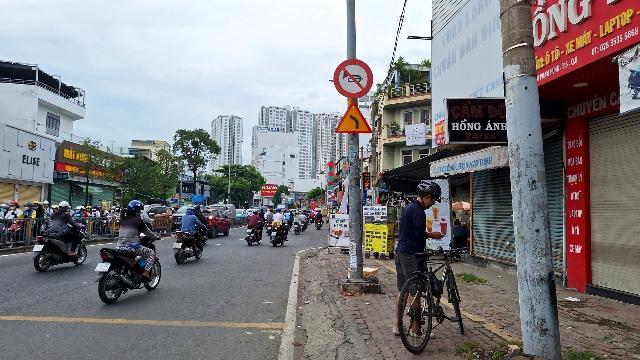cam-bop-coi: (332, 58, 374, 100)
cho-ngoat-nguy-hiem-ben-trai: (334, 100, 373, 133)
